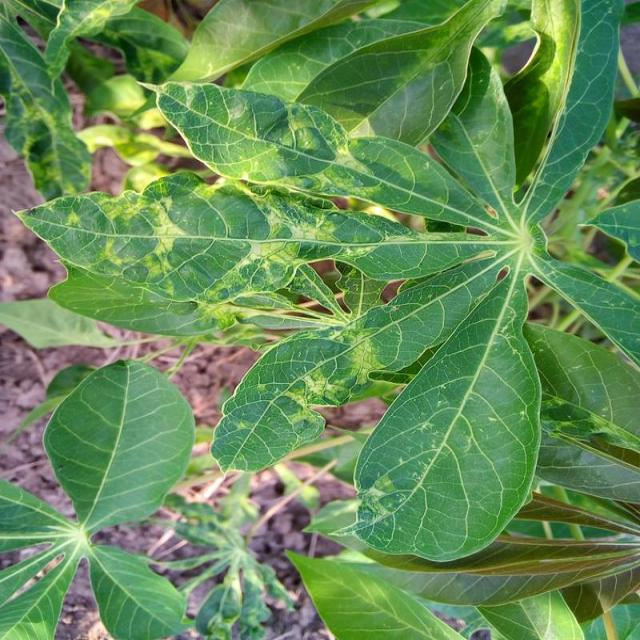cassava leaf: (9, 0, 637, 566), (349, 269, 542, 563), (41, 358, 195, 534)
